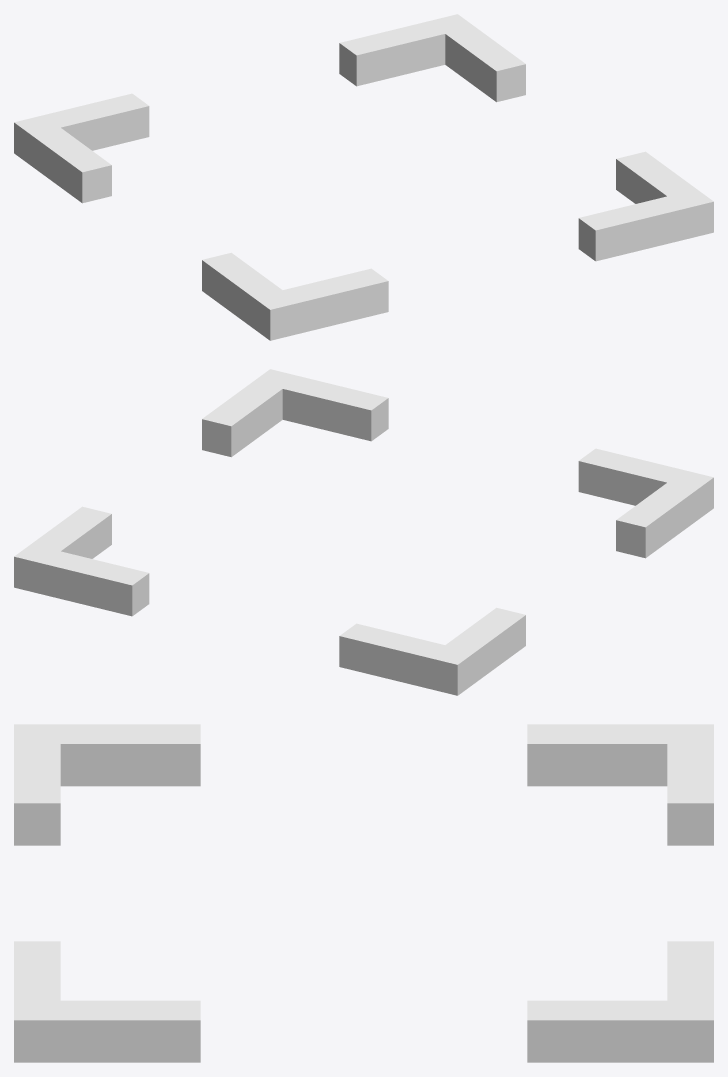
The model's file is Cursor.obj.
The picture shows the model from 3 angles, top to bottom: view 1: azimuth 30°, elevation 25°; view 2: azimuth 150°, elevation 25°; view 3: azimuth 270°, elevation 25°; orthographic projection. The views are drawn at different scales.
Size of the model in its own units: 1.5 by 0.1 by 1.5.
1 material, 1 textured.
